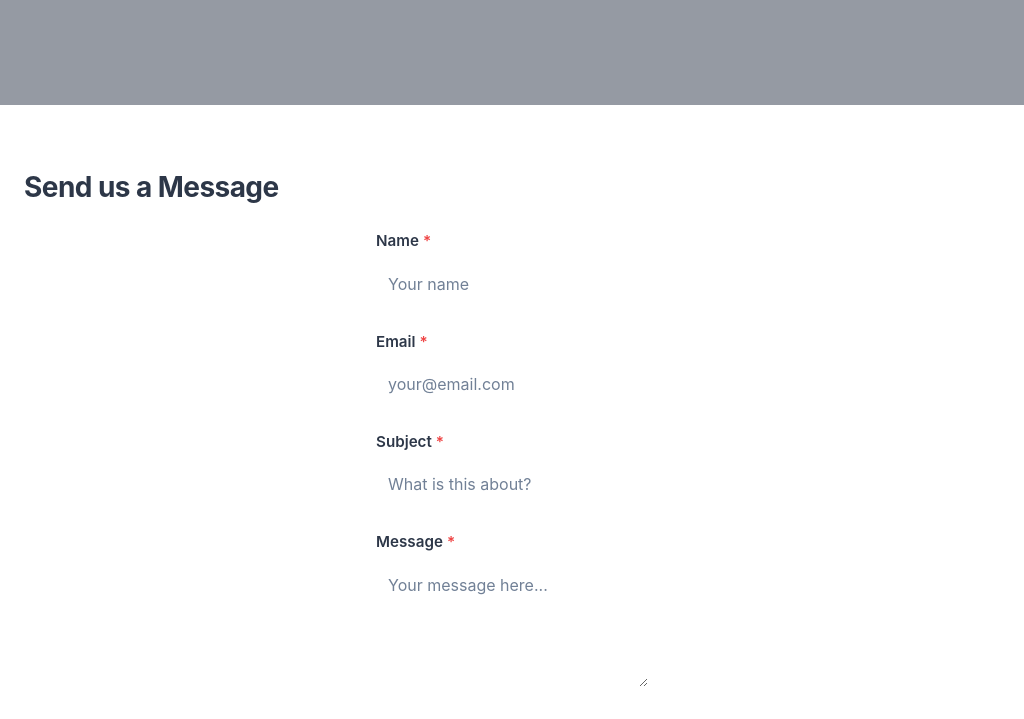
Test: Contact Page › Form Validation - Email Format › should show error for invalid email format
The image size is (1024, 719).
(page scrolled)
Type "invalidemail" into the field labelled "Email *" at (512,384), box [376,362,648,406]
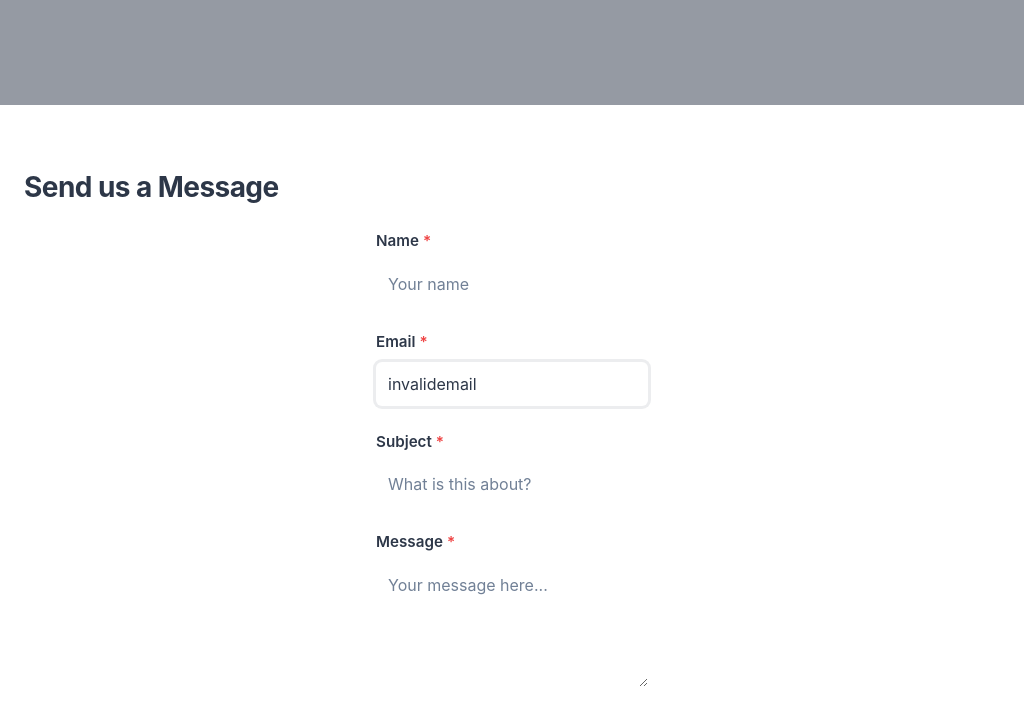
Press Tab
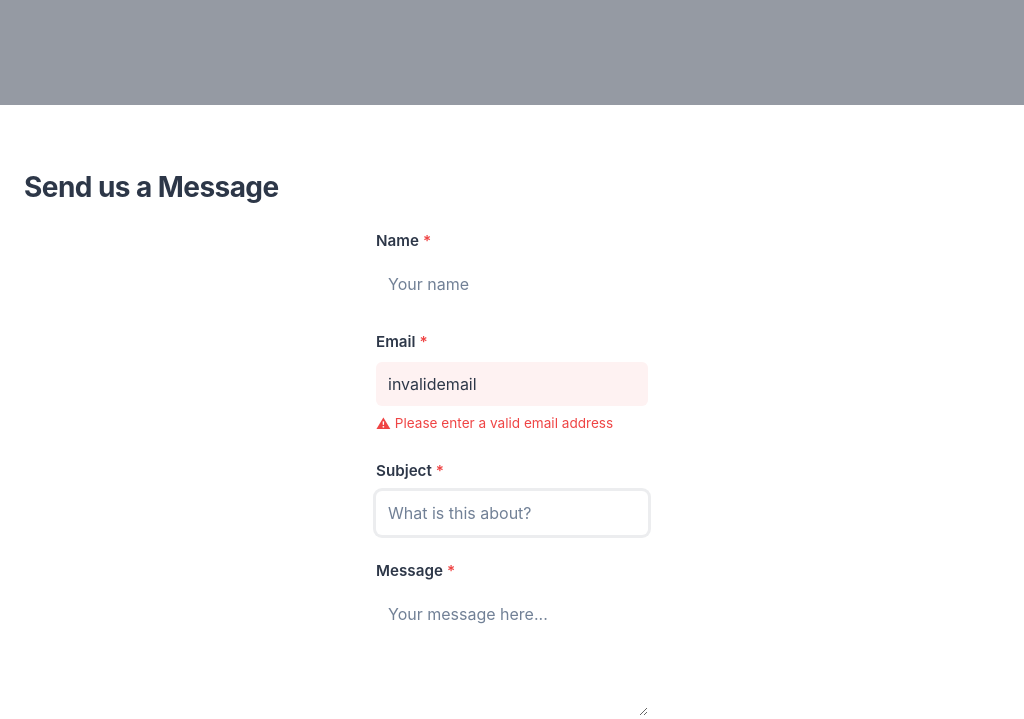
Now the text "Please enter a valid email address" is shown, box [395,415,613,431]
